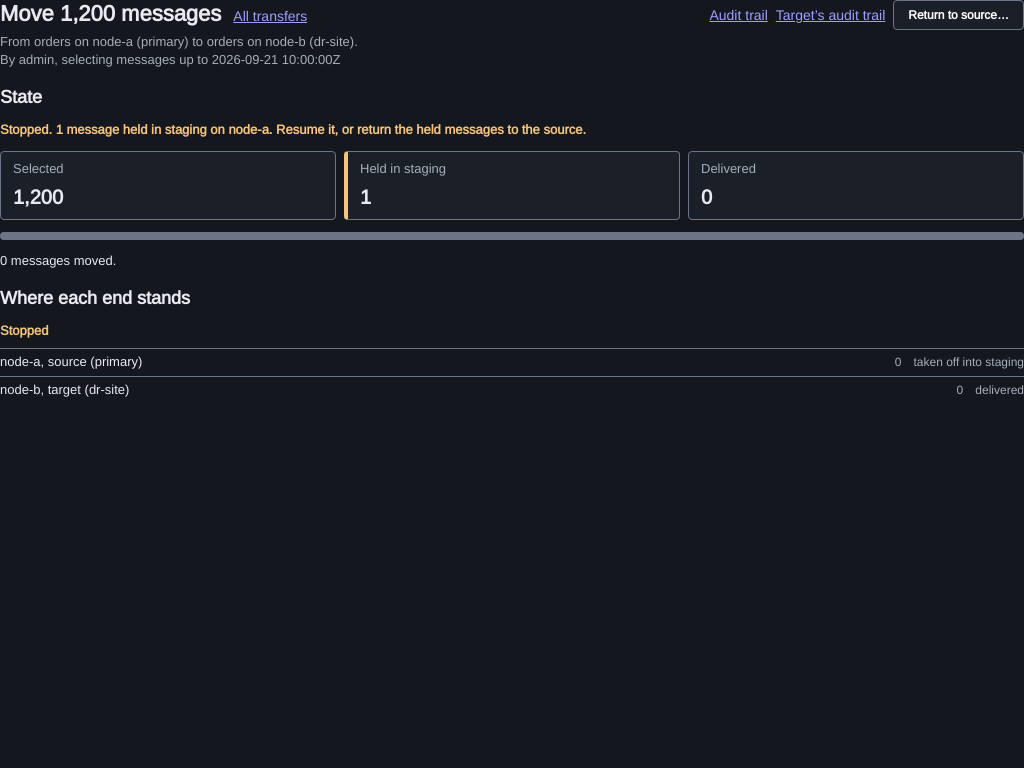
Test case: TransferRunView commands › keeps the return dialog open and armed only by the typed source name, then closes it once sent
Click the button "Return to source…".
click(959, 15)  # box [893,0,1023,30]
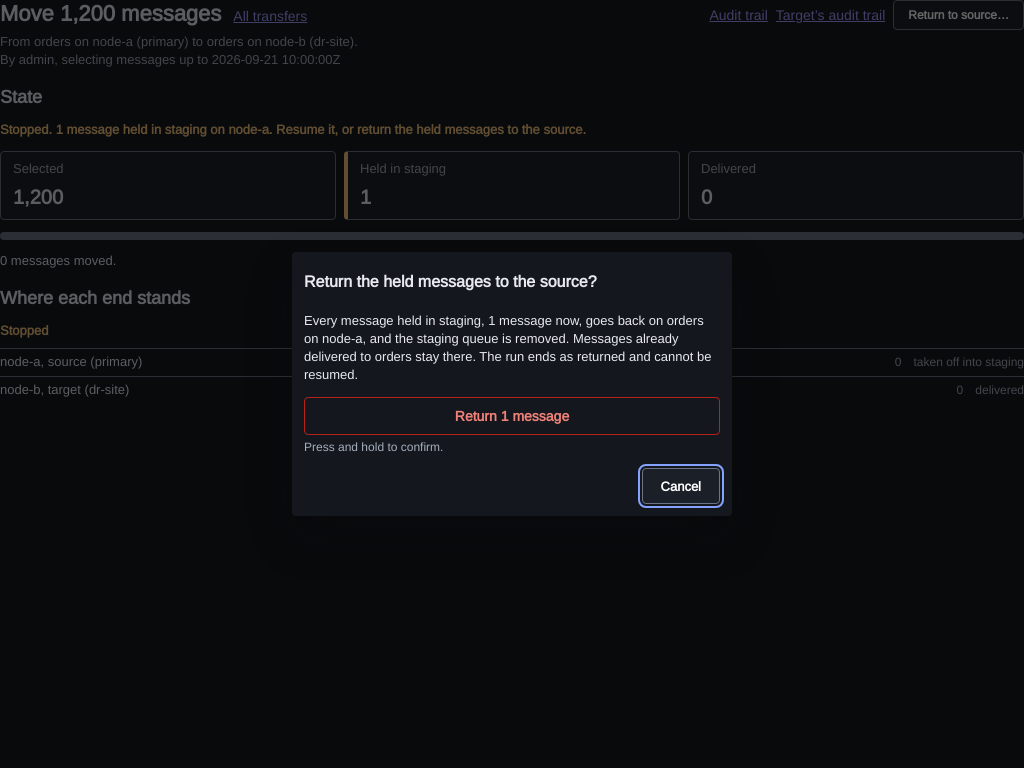
expect the dialog "Return the held messages to the source?" shows "Every message held in staging, 1 message now, goes back on orders on node-a": met, box [292,252,732,516]
expect the dialog "Return the held messages to the source?" shows "Messages already delivered to orders stay there.": met, box [292,252,732,516]
Press the mouse on the button "Return 1 message Return 1 message" at (512, 416), box [304,397,720,435]
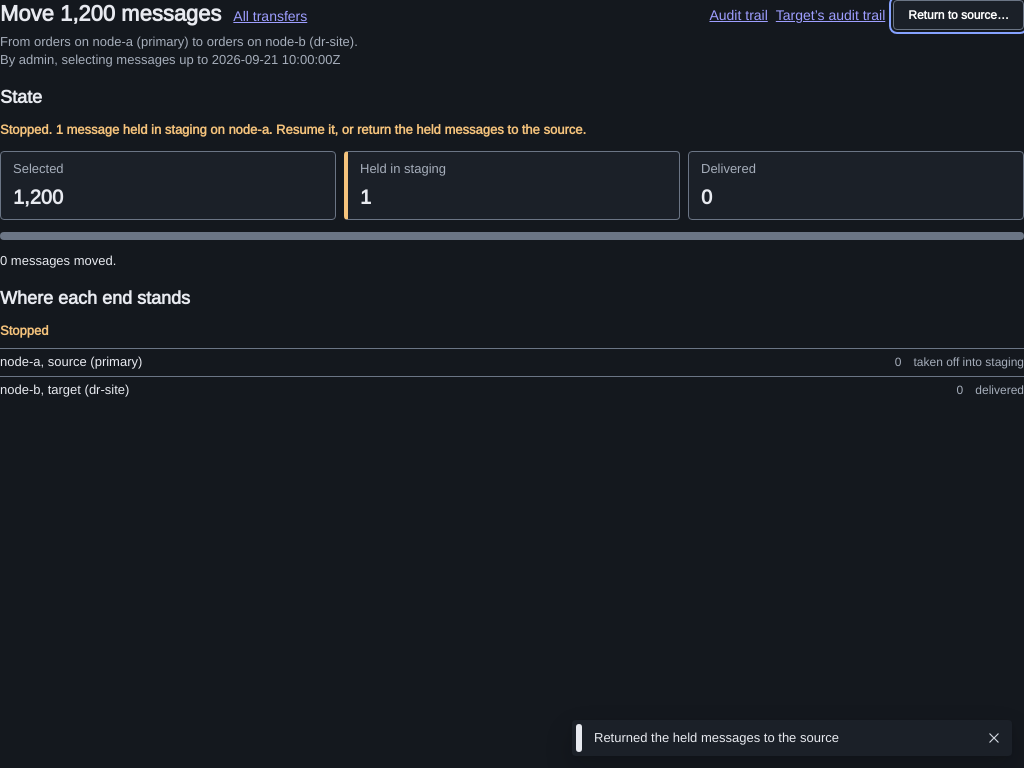
expect the dialog is gone: met
expect the text "Returned the held messages to the source" is shown: met, box [594,729,839,746]
